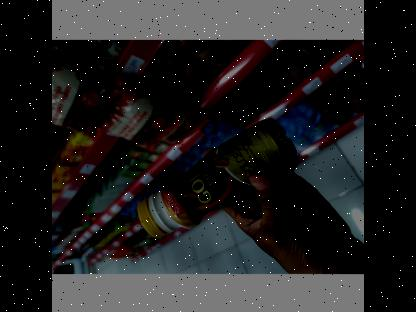Plastic Bottle: (129, 113, 303, 250)
